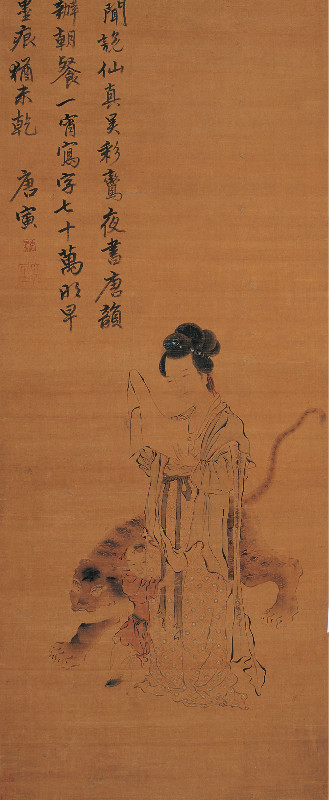tiger: (77, 528, 154, 673), (258, 550, 303, 624), (255, 452, 277, 494), (275, 425, 297, 444), (296, 414, 326, 422)
woman: (160, 339, 252, 700), (130, 383, 163, 529)
